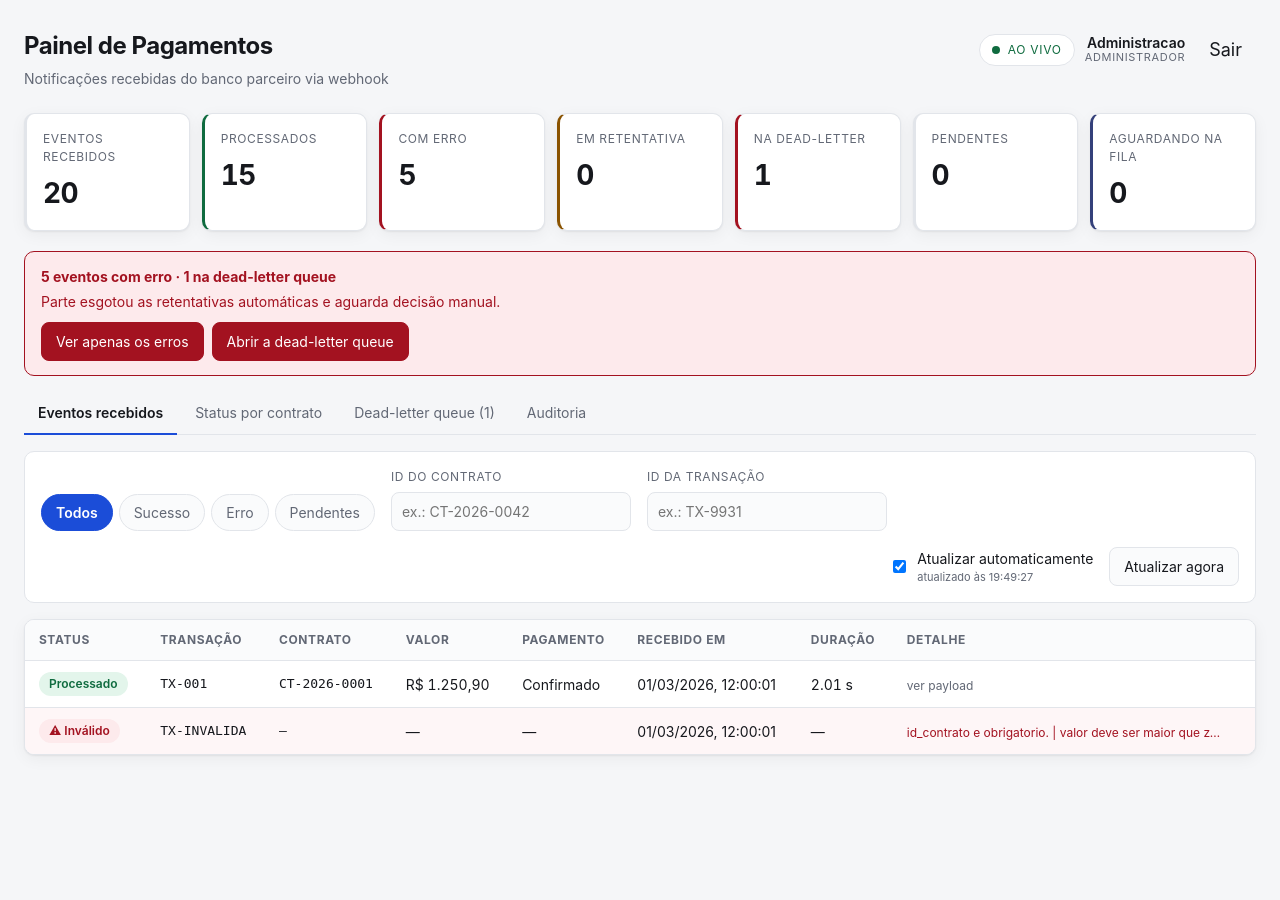
Test: App › alterna o indicador de ao vivo ao pausar
Check: the heading "Painel de Pagamentos" is shown, box [24,31,273,60]
Check: the text "TX-001" is shown, box [146,660,265,708]
Click the checkbox at [900, 566], box [893,560,906,573]
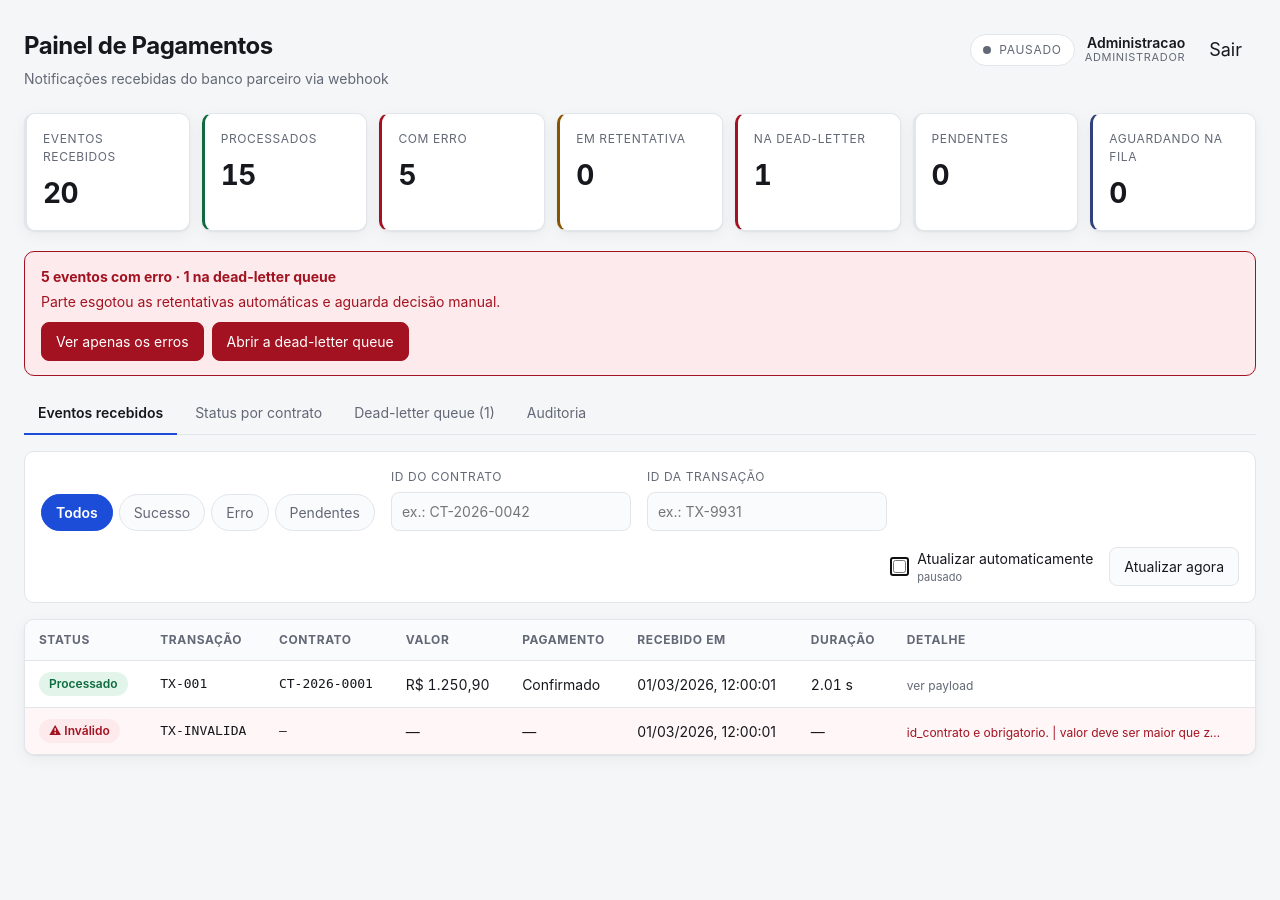
Check: the text "pausado" next to "administrador" is shown, box [999,42,1062,56]
